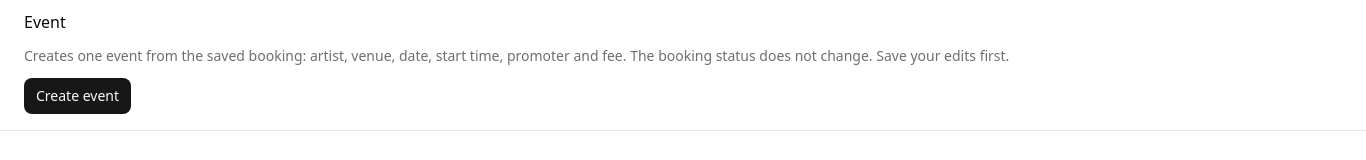
a retry (double click, lost response) opens the event already linked, never an error
The width and height of the screenshot is (1366, 160).
Click the button "Create event". click: (78, 96)
box: x1=24 y1=78 x2=131 y2=114
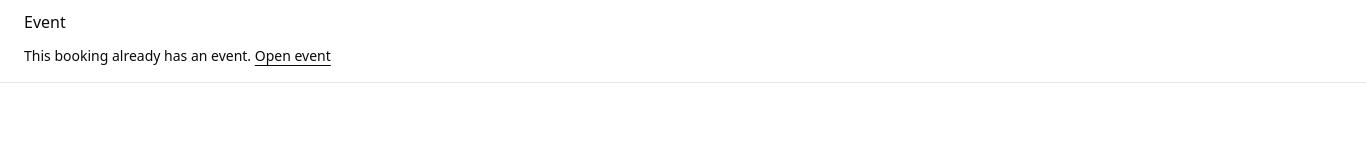
Expected: the message reads "This booking already has an event. Open event", x1=24 y1=46 x2=331 y2=65
